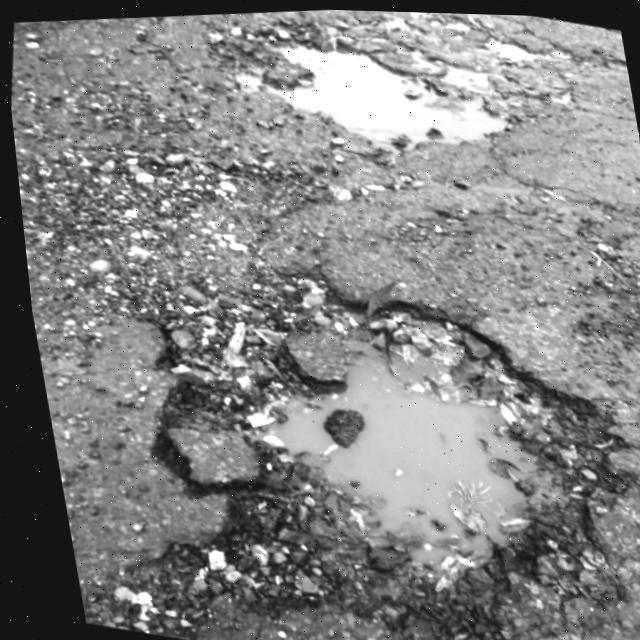Pothole: (112, 231, 640, 640), (214, 5, 520, 184)
